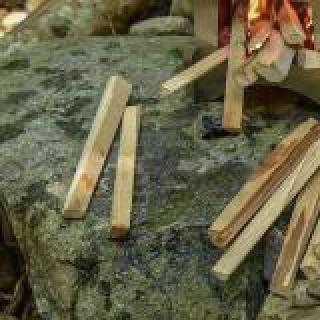fire: (244, 0, 320, 36)
